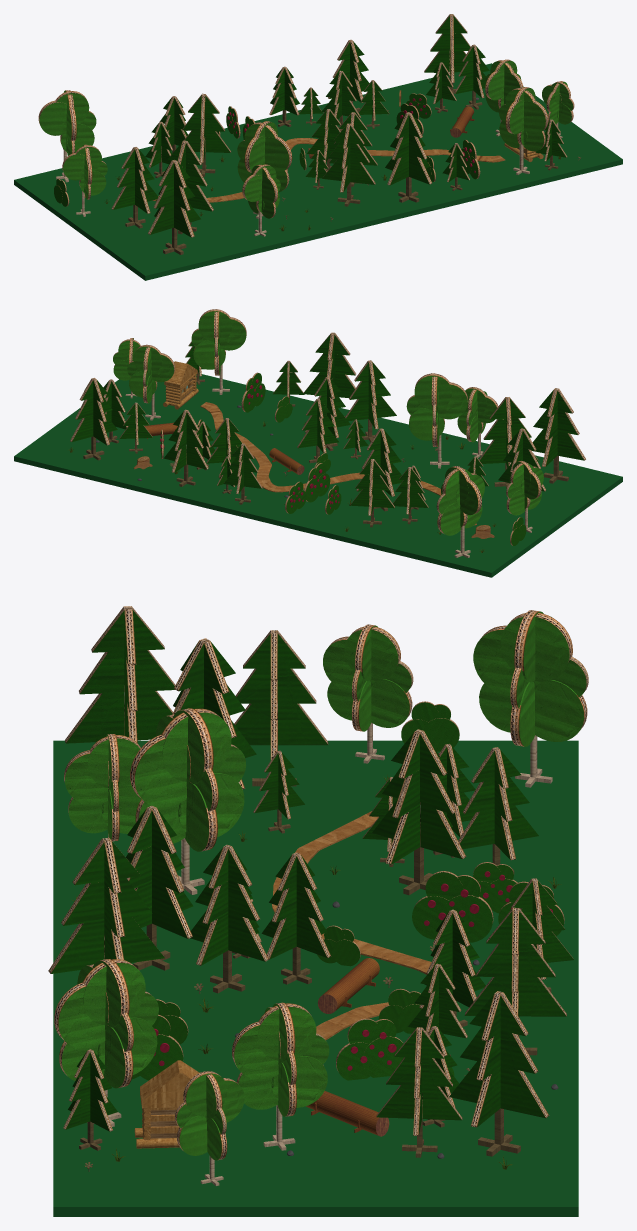
The model's file is Main Scene.fbx.
The picture shows the model from 3 angles, top to bottom: view 1: azimuth 30°, elevation 25°; view 2: azimuth 150°, elevation 25°; view 3: azimuth 270°, elevation 25°; orthographic projection. The views are drawn at different scales.
Parts seen in each view (by area): view 1: Cube, tree.002, tree.008, tree_4.017, tree.004, tree_4.009, tree_4.010, tree_4.025, tree_4.014, tree.007, tree.005, tree_4.003 (+21 smaller); view 2: Cube, tree.004, tree.008, tree_4.017, tree.002, tree_4.010, tree_4.003, tree.003, tree_4.018, tree_4.009, tree_4.005, tree.007 (+21 smaller); view 3: Cube, tree.008, tree.004, tree.002, tree_4.017, tree.003, tree_4.009, tree_4.003, tree.007, tree_4.014, tree_4.025, tree_4.006 (+27 smaller).
Part boxes in pixels (x1,y1,x2,y2): Cube: (14, 63, 622, 280); tree.002: (499, 87, 548, 174); tree.008: (38, 90, 96, 182); tree_4.017: (148, 160, 200, 254); tree.004: (237, 121, 292, 218); tree_4.009: (385, 112, 432, 202); tree_4.010: (322, 123, 375, 206); tree_4.025: (111, 147, 158, 228); tree_4.014: (182, 93, 231, 176); tree.007: (62, 144, 107, 216); tree.005: (242, 164, 280, 236); tree_4.003: (424, 14, 470, 94); Cube: (14, 374, 622, 577); tree.004: (406, 373, 467, 468); tree.008: (436, 466, 484, 557); tree_4.017: (531, 388, 585, 483); tree.002: (191, 309, 246, 394); tree_4.010: (345, 360, 396, 442); tree_4.003: (70, 377, 117, 460); tree.003: (127, 344, 175, 420); tree_4.018: (479, 397, 538, 488); tree_4.009: (303, 332, 355, 416); tree_4.005: (163, 409, 208, 486); tree.007: (506, 460, 543, 532); Cube: (53, 740, 578, 1216); tree.008: (473, 610, 588, 787); tree.004: (130, 708, 246, 894); tree.002: (54, 959, 158, 1126); tree_4.017: (65, 606, 175, 743); tree.003: (232, 1002, 329, 1150); tree_4.009: (48, 837, 164, 973); tree_4.003: (449, 991, 549, 1156); tree.007: (323, 624, 413, 763); tree_4.014: (372, 729, 466, 895); tree_4.025: (234, 630, 328, 786); tree_4.006: (190, 844, 268, 993).
Bounding box in the file's own units: 74726 × 14167 × 36582.
